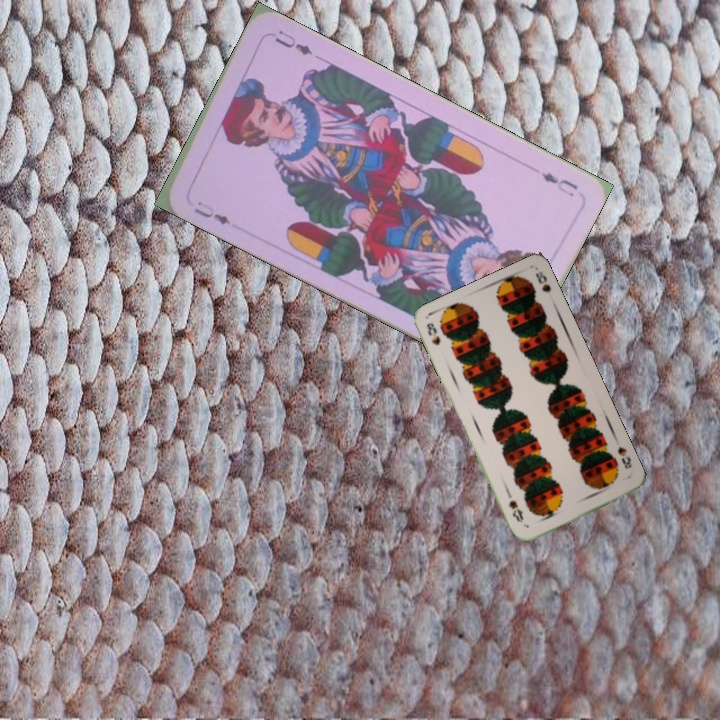EU: (189, 197, 233, 228), (537, 168, 580, 199)
S8: (613, 442, 634, 472), (422, 318, 443, 348)
